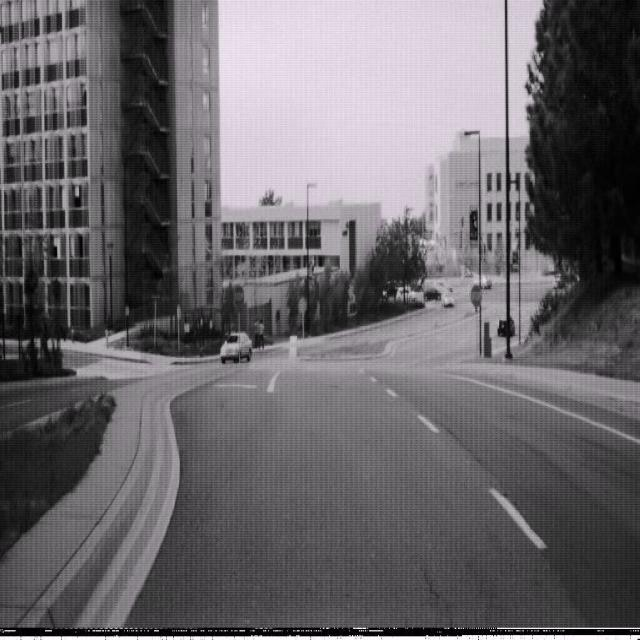stop: (469, 282, 482, 309)
